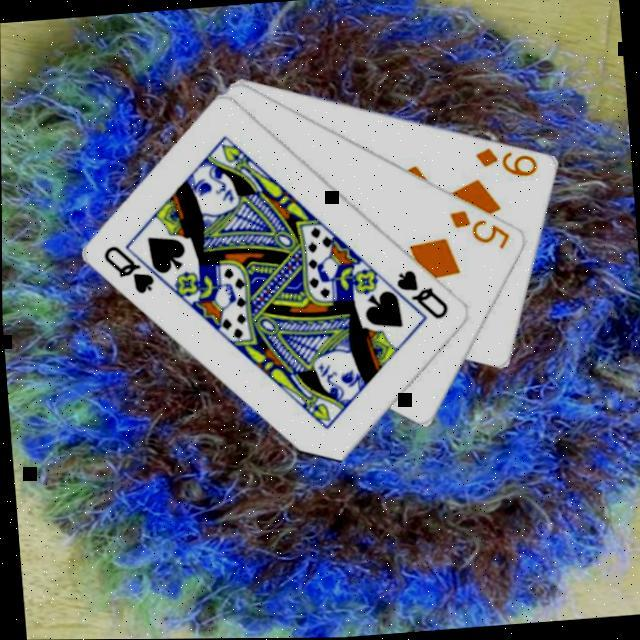5D: (447, 201, 515, 253)
9D: (474, 138, 542, 181)
QS: (394, 262, 454, 323), (101, 237, 160, 297)
